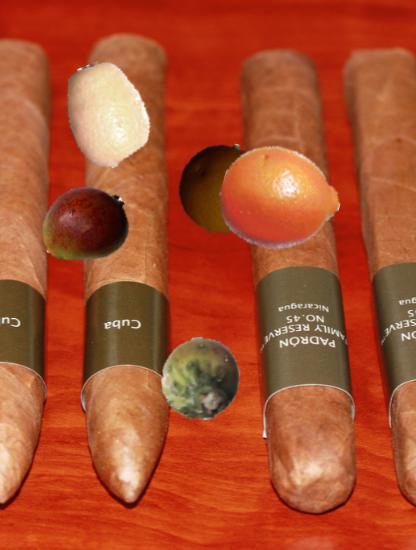Cactus: (160, 337, 244, 421)
Kumquats: (54, 62, 159, 167)
Mango: (39, 180, 131, 272)
Orange: (177, 142, 270, 235)
Tangelo: (220, 140, 340, 260)
